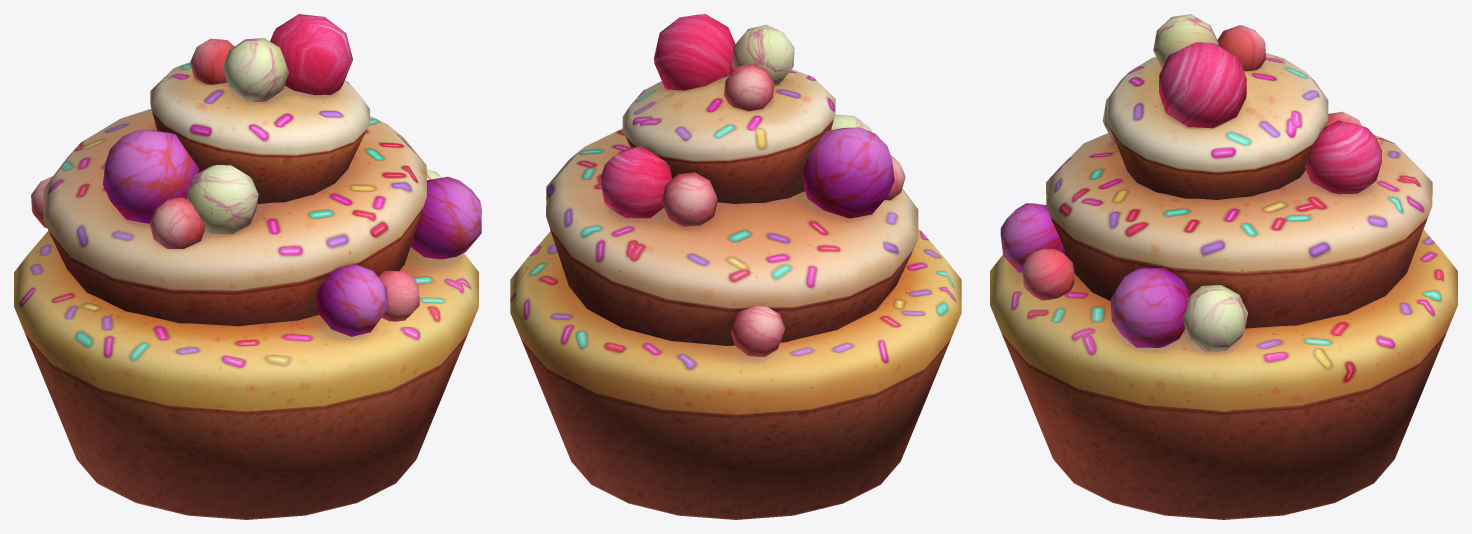
File: SE_Cake_03.fbx
The picture shows the model from 3 angles, left to right: view 1: azimuth 30°, elevation 25°; view 2: azimuth 150°, elevation 25°; view 3: azimuth 270°, elevation 25°; orthographic projection. The views are drawn at different scales.
Visible parts, largest first — view 1: SE_Cake_03; view 2: SE_Cake_03; view 3: SE_Cake_03.
Part boxes in pixels (left/top/right/bottom): SE_Cake_03: left=14, top=14, right=481, bottom=519; SE_Cake_03: left=510, top=14, right=961, bottom=519; SE_Cake_03: left=990, top=14, right=1457, bottom=519.
Size of the model in its own units: 2.84 by 2.96 by 2.8.
